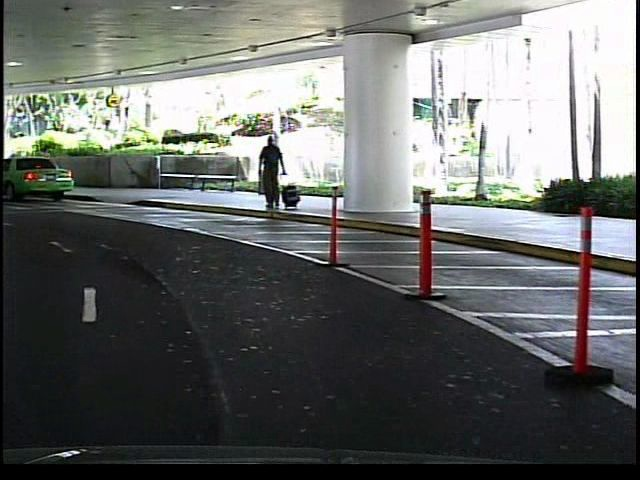person: (256, 131, 291, 215)
